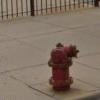Hydrant: (39, 26, 82, 91)
